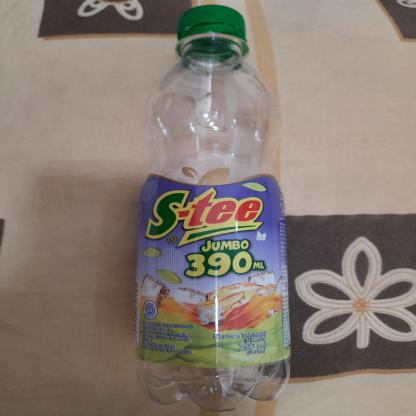bottle: (129, 3, 293, 411)
